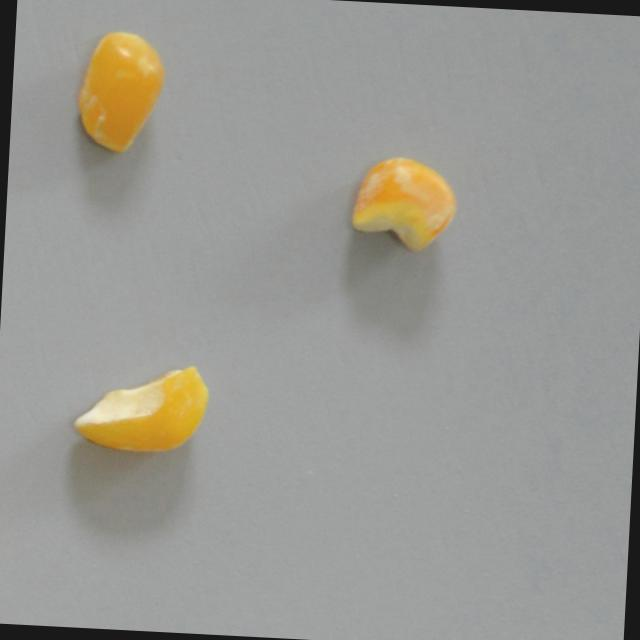estandar: (71, 358, 212, 460)
pelicula: (58, 42, 186, 141), (350, 148, 454, 263)
